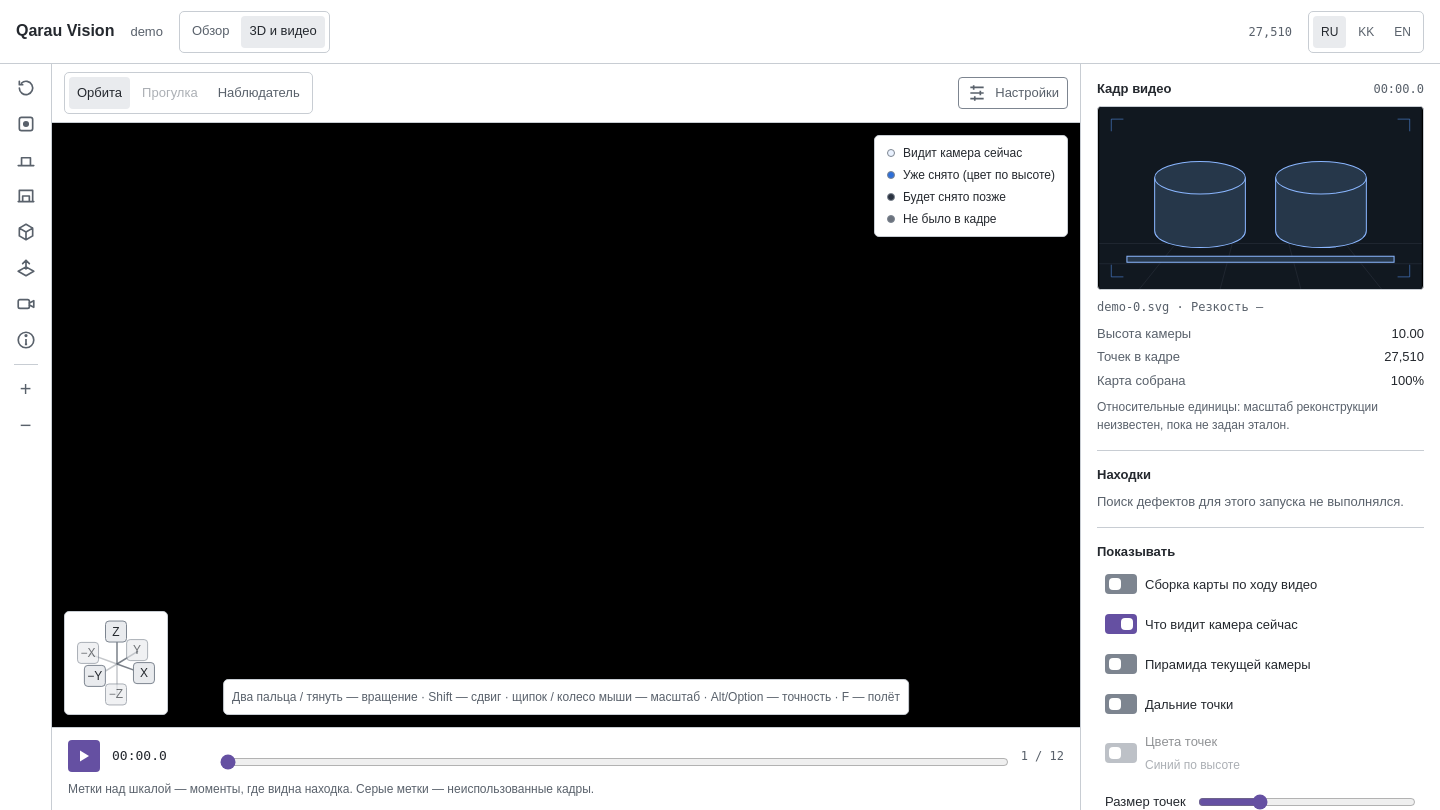
Scenario: localizes navigation modes, presets, surface alignment and settings (ru)
The image size is (1440, 810).
Check: the button "Прогулка" is disabled, box [134,77,206,109]
Click the button "Наблюдатель": [259, 93] box [210,77,308,109]
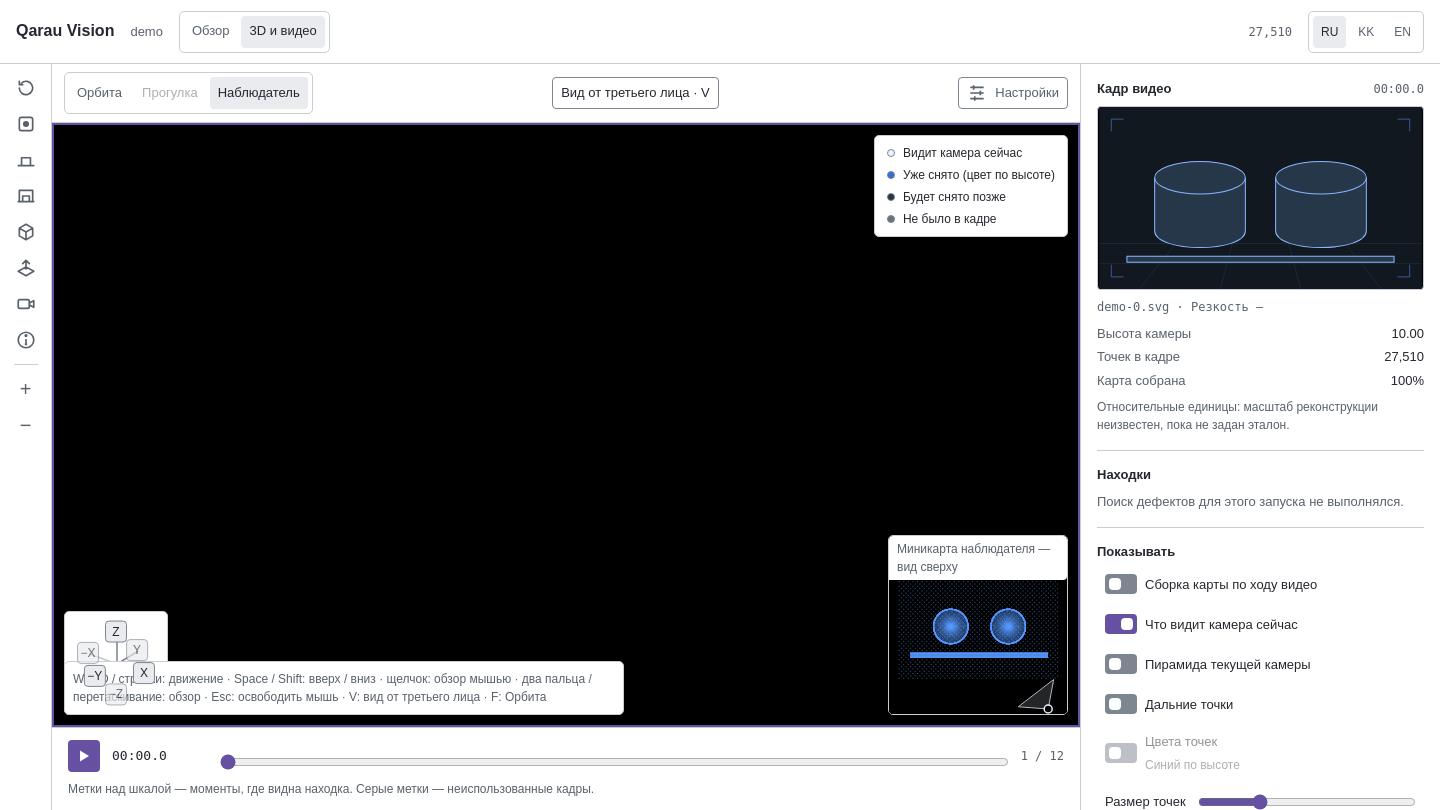
Check: the message shows "WASD / стрелки: движение · Space / Shift: вверх / вниз · щелчок: обзор мышью · два пальца / перетаскивание: обзор · Esc: освободить мышь · V: вид от третьего ли", box [73,672,592,704]
Click the button "Орбита": [100, 93] box [69,77,130,109]
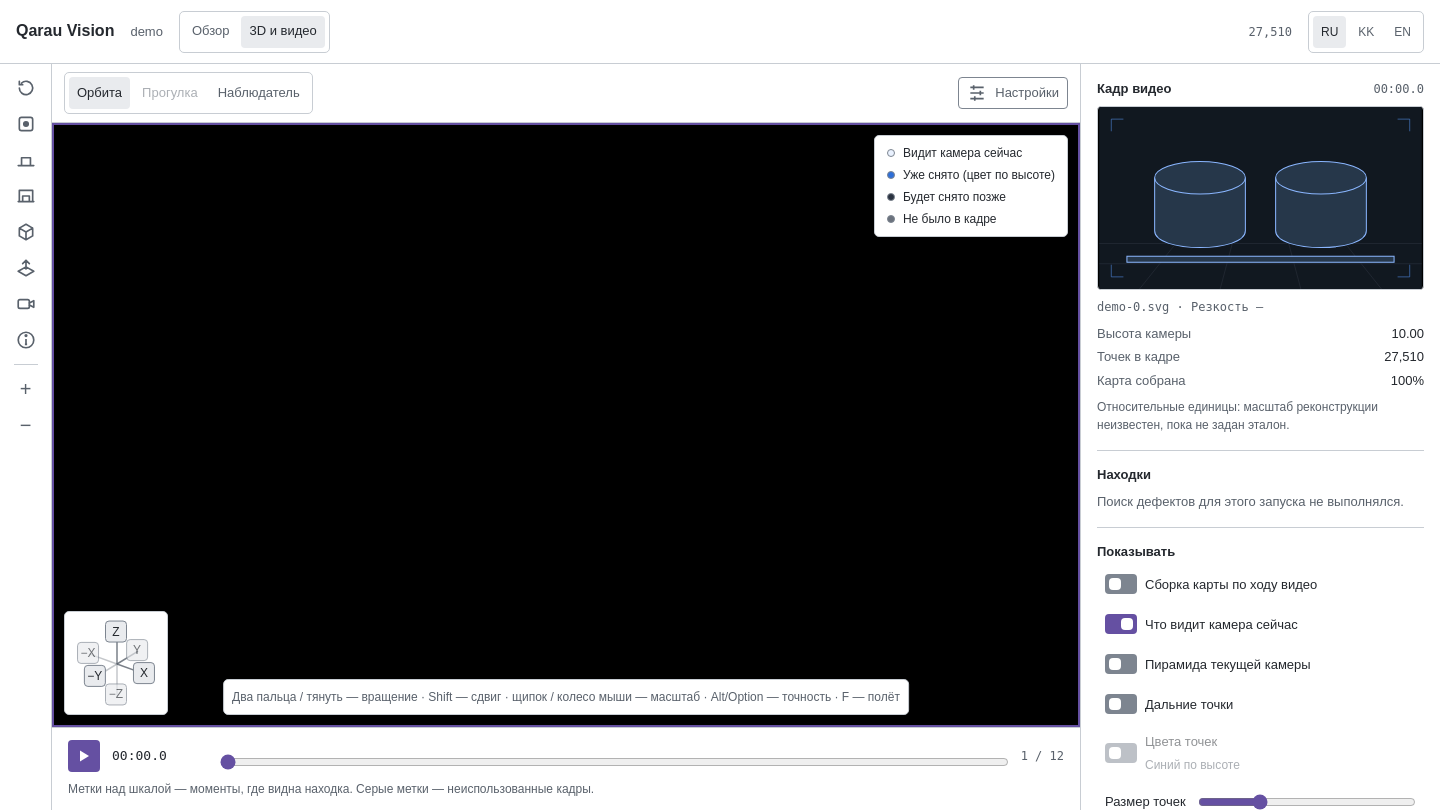
Check: the button named "Вид сверху" is shown, box [10,108,42,140]
Check: the button named "Вид спереди" is shown, box [10,180,42,212]
Click the button named "Выровнять по поверхности": [26, 268] box [10,252,42,284]
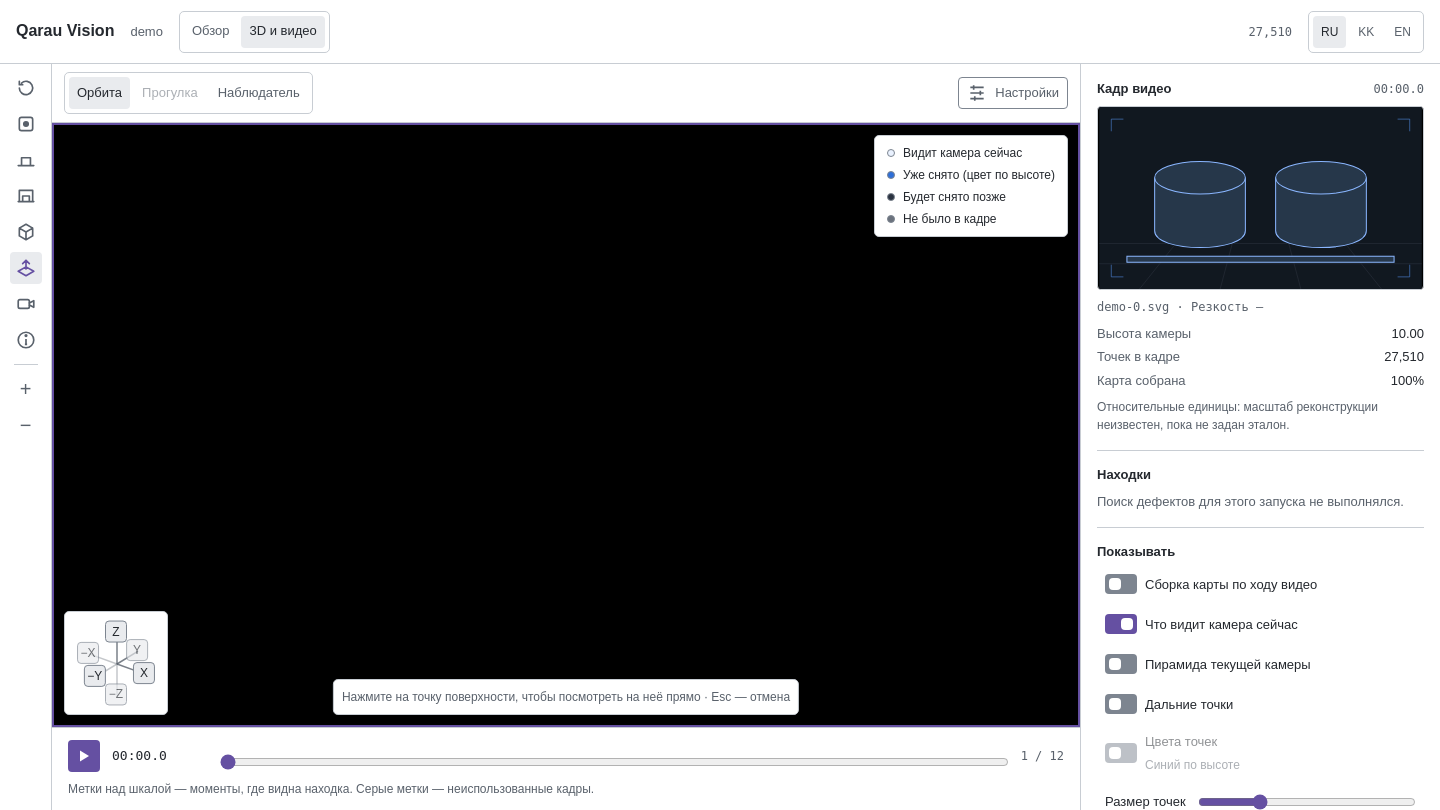
Check: the message reads "Нажмите на точку поверхности, чтобы посмотреть на неё прямо · Esc — отмена", box [342,690,790,704]
Press Escape in the drawing named "Интерактивная 3D-карта: облако точек и путь камеры. Два пальца или мышь — вращение, Shift — сдвиг, щипок или колесо мыши", box [52,123,1080,727]
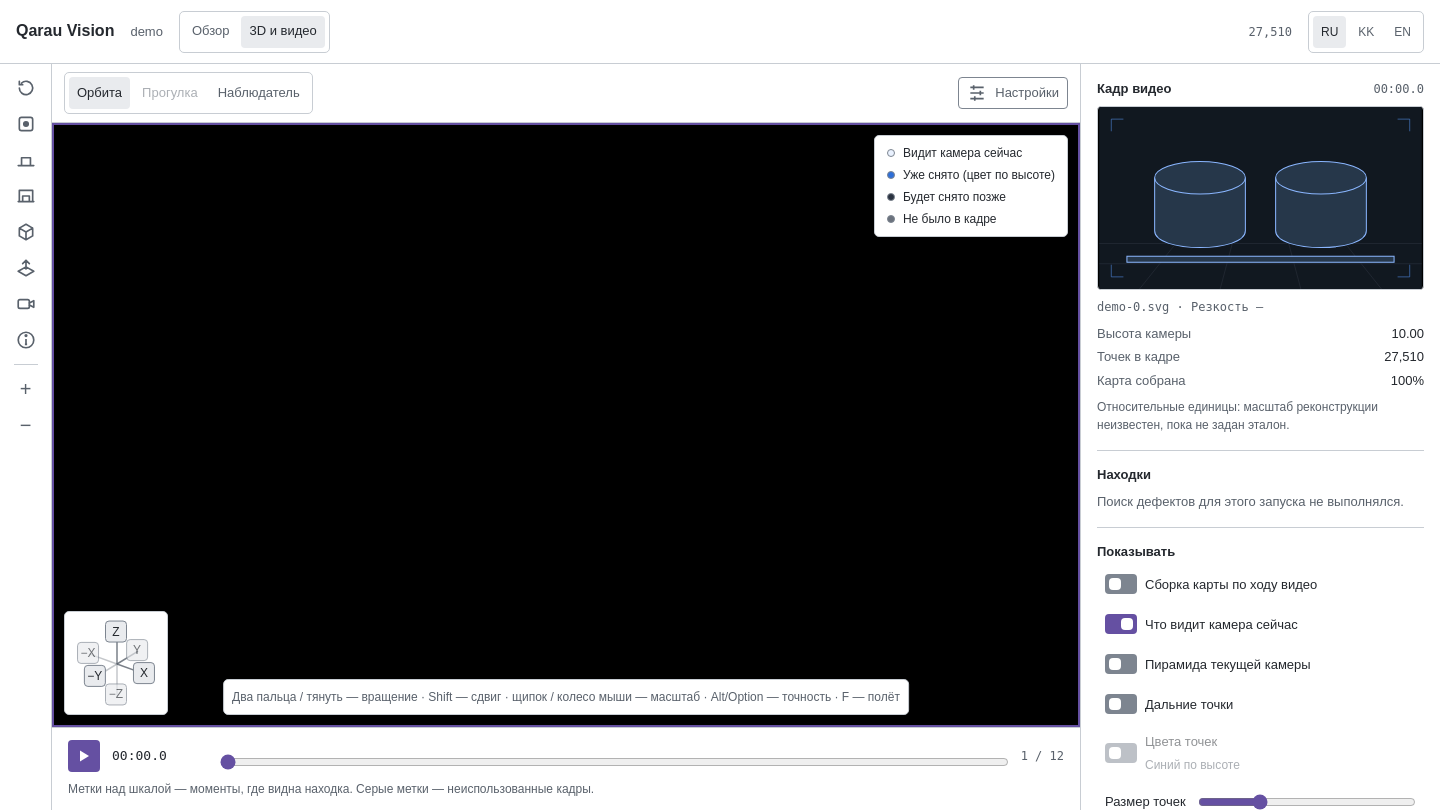
Check: the message shows "Два пальца / тянуть — вращение · Shift — сдвиг · щипок / колесо мыши — масштаб · Alt/Option — точность · F — полёт", box [232,690,900,704]
Click the heading "Настройки": [1013, 93] box [958,77,1068,109]
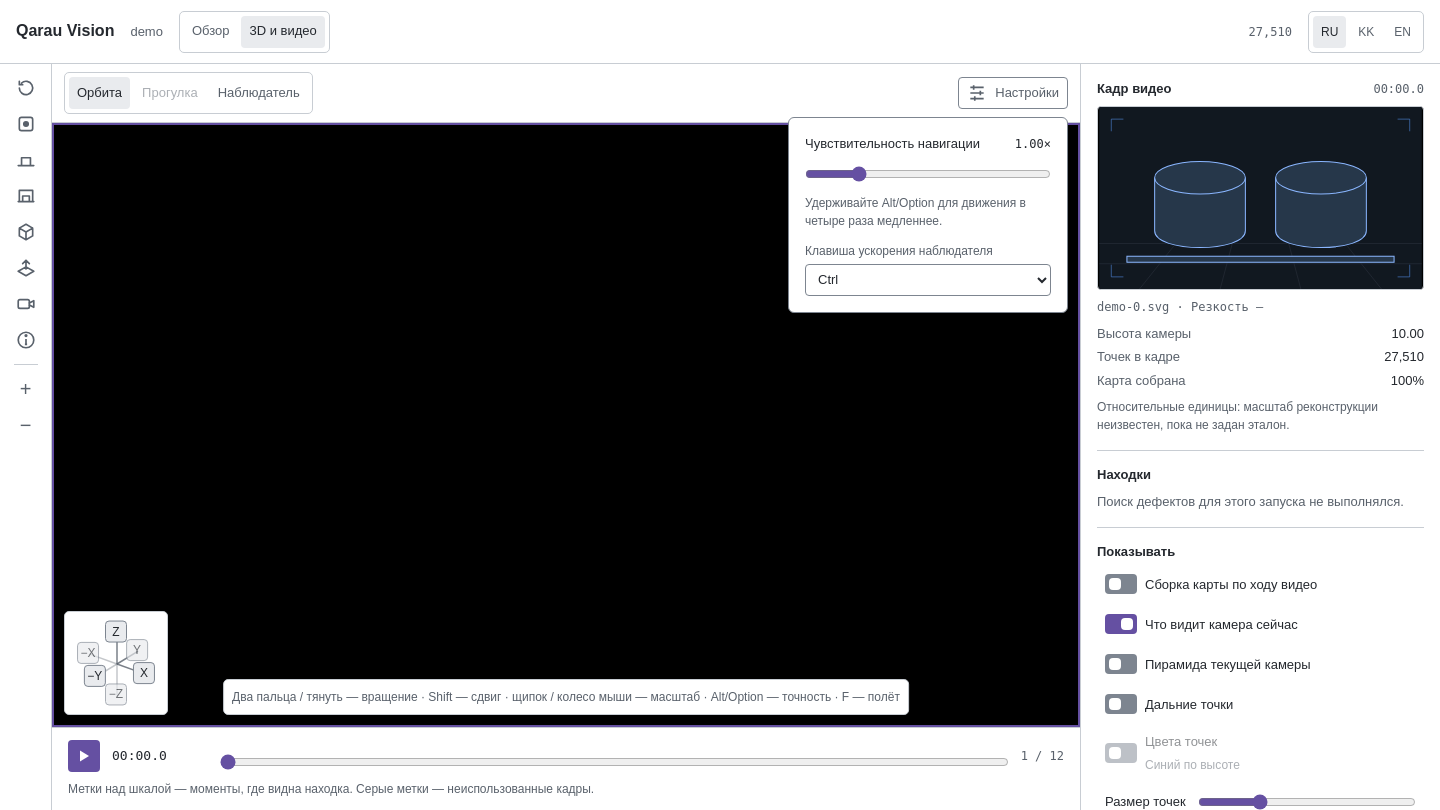
Check: the slider labelled "Чувствительность навигации" is shown, box [805,166,1051,182]
Check: the text "Удерживайте Alt/Option для движения в четыре раза медленнее." is shown, box [805,194,1051,230]
